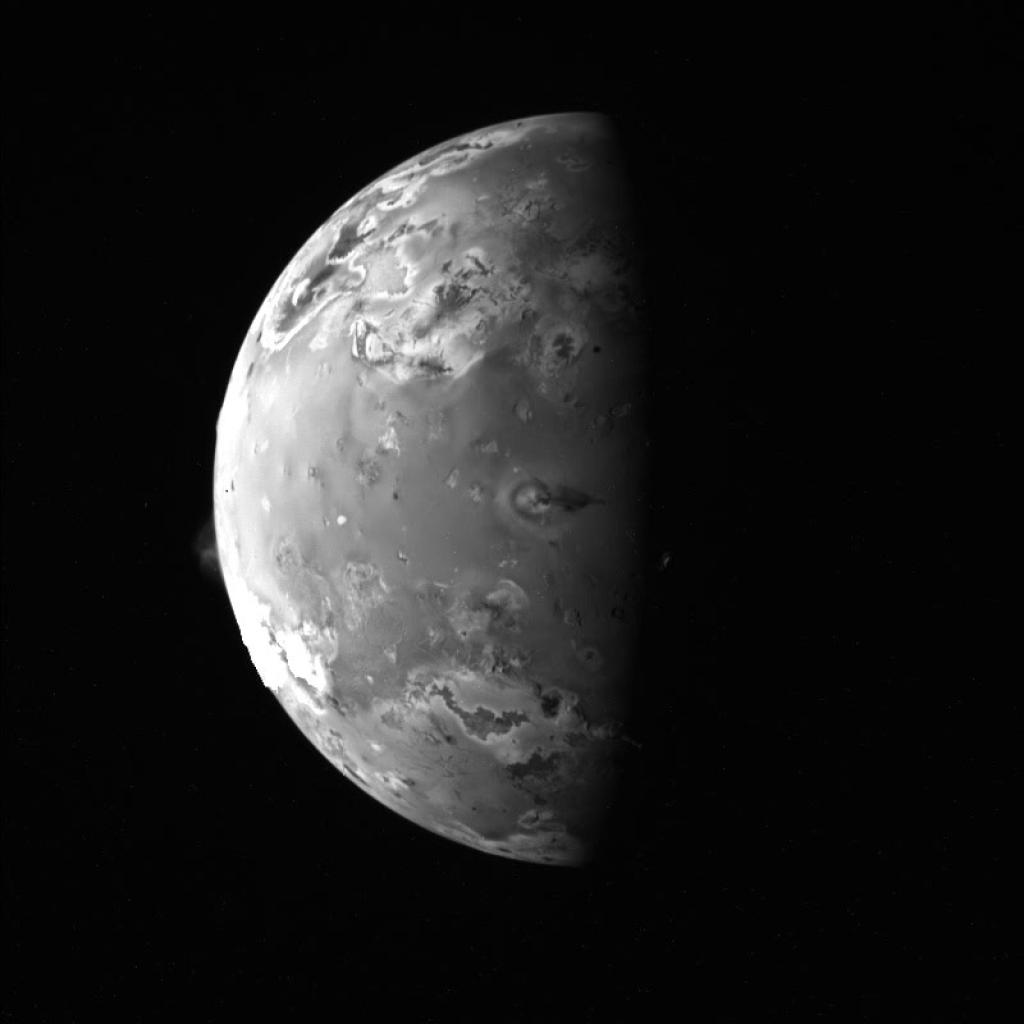plumes: (193, 522, 227, 572)
